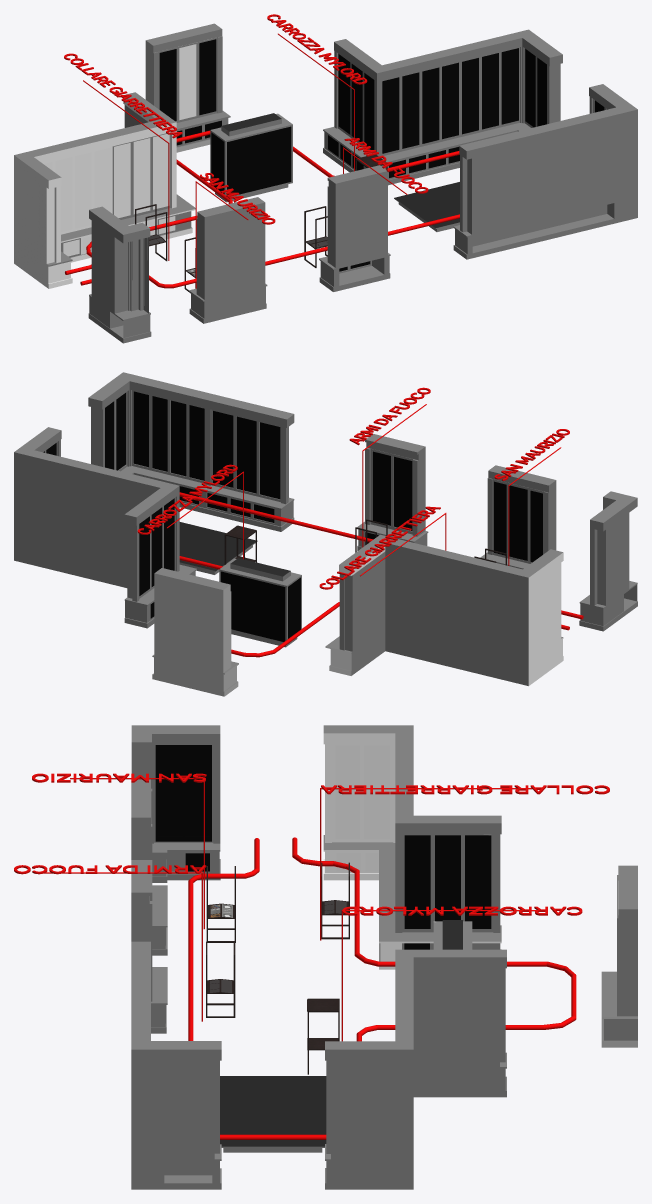
File: rotonda23.obj
3 views of the same model, one above another, from view 1: azimuth 30°, elevation 25°; view 2: azimuth 150°, elevation 25°; view 3: azimuth 270°, elevation 25° (orthographic). The views are drawn at different scales.
Parts seen in each view (by area): view 1: Mesh2_Model_4, Mesh1_Model_3, Mesh1_Model_5, Mesh13_Model_3, Mesh12_Group1_Model, Mesh13_Model, Mesh1_Group1_Model_6, Mesh1_Model_2, Mesh13_Model_2, Object_3.001_Object_3.002, Mesh1_Group1_Model_4, Object_46 (+13 smaller); view 2: Mesh13_Model_2, Mesh1_Model_5, Mesh2_Model_2, Mesh2_Model_4, Mesh1_Model_2, Object_98_Object_98.001, Mesh13_Model_3, Mesh1_Group1_Model_6, Extrusion.037_mesh-a3cc7a4e-0170-4be9-a85a-ef42ae5e904c, Mesh12_Group1_Model, Object_1.001_Object_1.002, Mesh12_Group1_Model_2 (+12 smaller); view 3: Mesh1_Model_5, Mesh2_Model_4, Mesh13_Model_2, Object_46, Mesh13_Model, Mesh1_Model_2, Mesh13_Model_3, Mesh1_Group1_Model_4, Mesh1_Group1_Model_6, Mesh12_Group1_Model, Mesh6_Model, Mesh5_Model (+12 smaller).
Boxes of the visible parts, left/top/right/bottom form: Mesh2_Model_4: left=453, top=84, right=637, bottom=259; Mesh1_Model_3: left=328, top=48, right=546, bottom=177; Mesh1_Model_5: left=323, top=29, right=562, bottom=185; Mesh13_Model_3: left=14, top=97, right=195, bottom=288; Mesh12_Group1_Model: left=189, top=197, right=267, bottom=323; Mesh13_Model: left=43, top=134, right=175, bottom=256; Mesh1_Group1_Model_6: left=319, top=165, right=390, bottom=291; Mesh1_Model_2: left=88, top=206, right=151, bottom=343; Mesh13_Model_2: left=14, top=92, right=195, bottom=266; Object_3.001_Object_3.002: left=227, top=126, right=291, bottom=195; Mesh1_Group1_Model_4: left=65, top=130, right=459, bottom=288; Object_46: left=394, top=182, right=459, bottom=227; Mesh13_Model_2: left=326, top=534, right=562, bottom=685; Mesh1_Model_5: left=14, top=427, right=196, bottom=628; Mesh2_Model_2: left=105, top=391, right=280, bottom=522; Mesh2_Model_4: left=88, top=372, right=294, bottom=531; Mesh1_Model_2: left=579, top=491, right=637, bottom=631; Object_98_Object_98.001: left=159, top=581, right=218, bottom=671; Mesh13_Model_3: left=325, top=544, right=563, bottom=685; Mesh1_Group1_Model_6: left=357, top=434, right=428, bottom=550; Extrusion.037_mesh-a3cc7a4e-0170-4be9-a85a-ef42ae5e904c: left=349, top=387, right=430, bottom=545; Mesh12_Group1_Model: left=480, top=465, right=556, bottom=569; Object_1.001_Object_1.002: left=221, top=571, right=285, bottom=641; Mesh12_Group1_Model_2: left=494, top=481, right=542, bottom=562; Mesh1_Model_5: left=325, top=949, right=506, bottom=1189; Mesh2_Model_4: left=131, top=941, right=221, bottom=1189; Mesh13_Model_2: left=323, top=725, right=501, bottom=961; Object_46: left=220, top=1076, right=326, bottom=1146; Mesh13_Model: left=335, top=745, right=389, bottom=871; Mesh1_Model_2: left=131, top=725, right=220, bottom=882; Mesh13_Model_3: left=323, top=733, right=501, bottom=969; Mesh1_Group1_Model_4: left=188, top=837, right=576, bottom=1139; Mesh1_Group1_Model_6: left=131, top=860, right=167, bottom=1033; Mesh12_Group1_Model: left=131, top=779, right=167, bottom=955; Mesh6_Model: left=155, top=745, right=183, bottom=841; Mesh5_Model: left=183, top=745, right=211, bottom=841.
Bounding box in the file's own units: 22.04 × 5 × 17.92.
